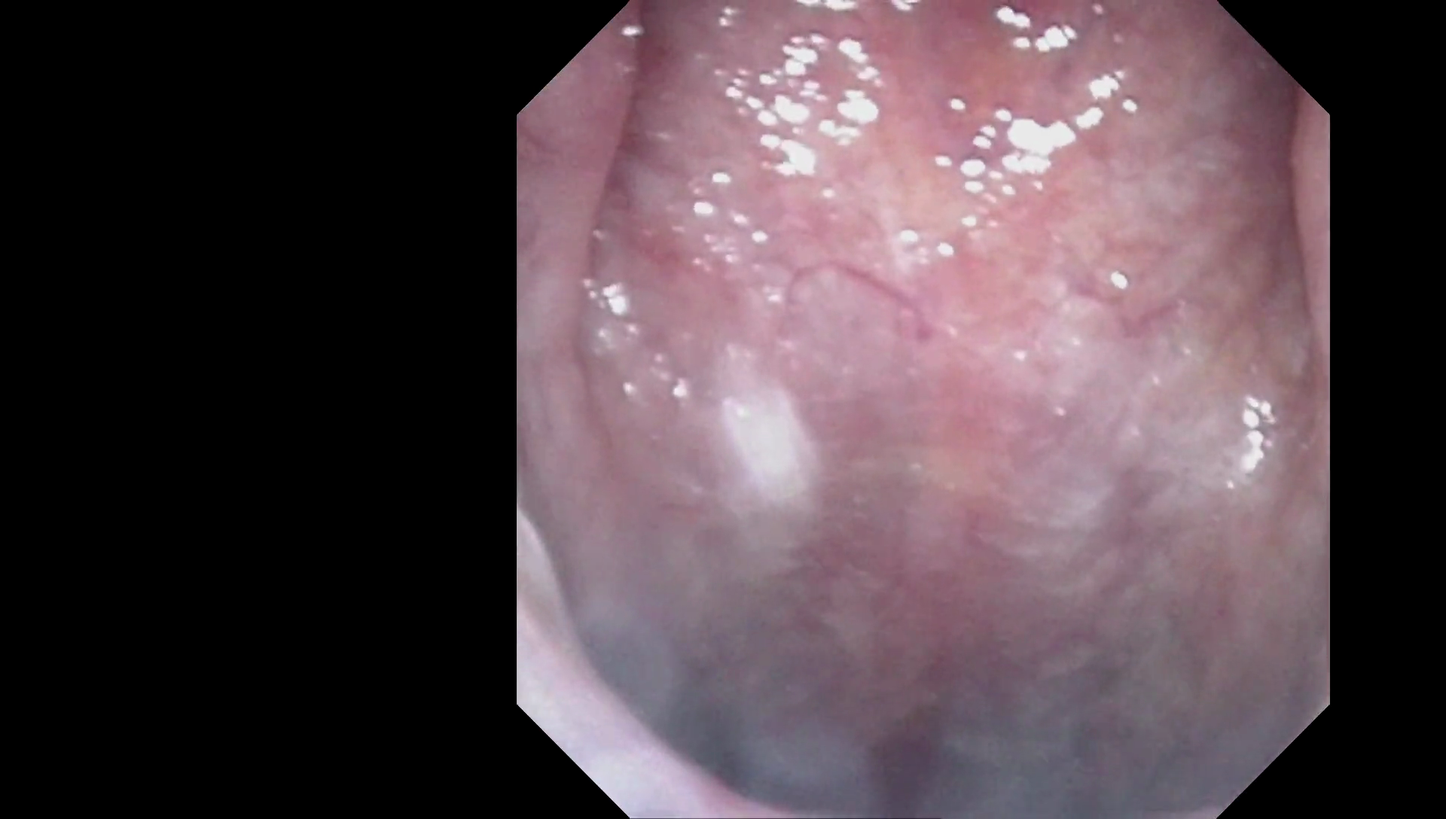close_wall: (527, 629, 758, 819)
next: (685, 681, 1007, 818)
